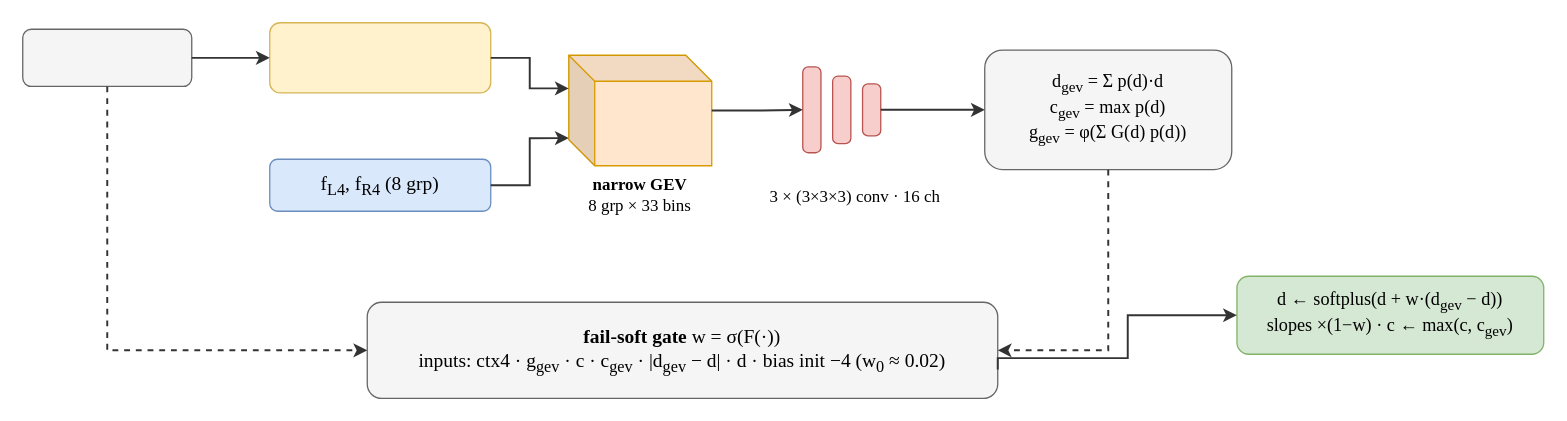
The diagram is 1567 pixels wide and 421 high, and some of its shapes have lost their labels. The centre of each missing label's shape, as x and y in pixels:
band select d ± 16 (33 bins): point (379, 57)
tile d (1/4): point (106, 57)
